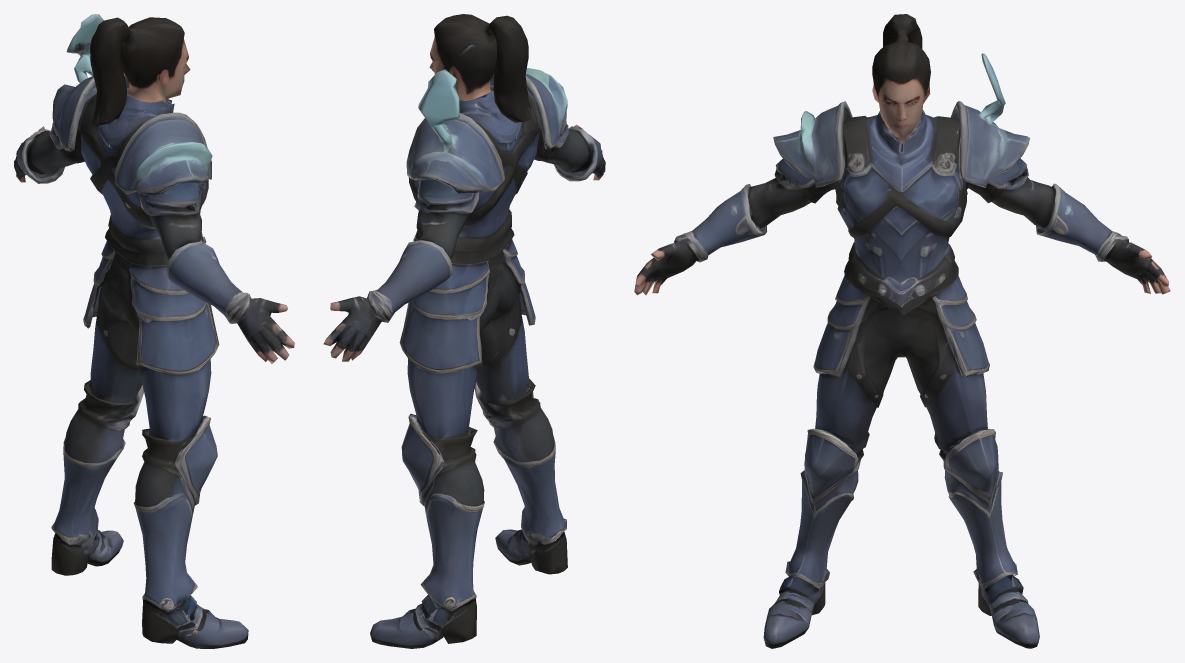
File: Char_Lancero_M.glb
3 renders of one model, left to right at view 1: azimuth 30°, elevation 25°; view 2: azimuth 150°, elevation 25°; view 3: azimuth 270°, elevation 25°, orthographic.
Parts seen in each view (by area): view 1: tripo_node_befc5fe2-6272-4e43-85ed-b2c738e50289; view 2: tripo_node_befc5fe2-6272-4e43-85ed-b2c738e50289; view 3: tripo_node_befc5fe2-6272-4e43-85ed-b2c738e50289.
Boxes of the visible parts, x1,y1,x2,y2 form: tripo_node_befc5fe2-6272-4e43-85ed-b2c738e50289: (14,14,294,648); tripo_node_befc5fe2-6272-4e43-85ed-b2c738e50289: (323,14,605,648); tripo_node_befc5fe2-6272-4e43-85ed-b2c738e50289: (634,14,1170,648).
Size of the model in its own units: 0.1924 by 1 by 0.8111.
1 material, 1 textured.
